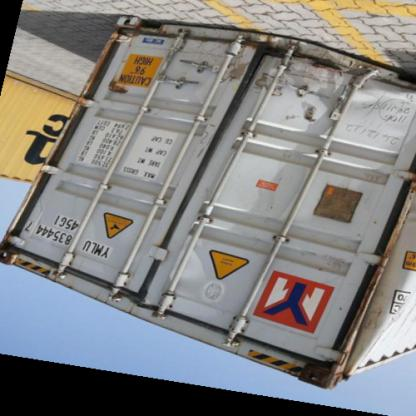Damage: (312, 221, 412, 372), (284, 58, 413, 150), (198, 42, 260, 100), (100, 72, 136, 100)
